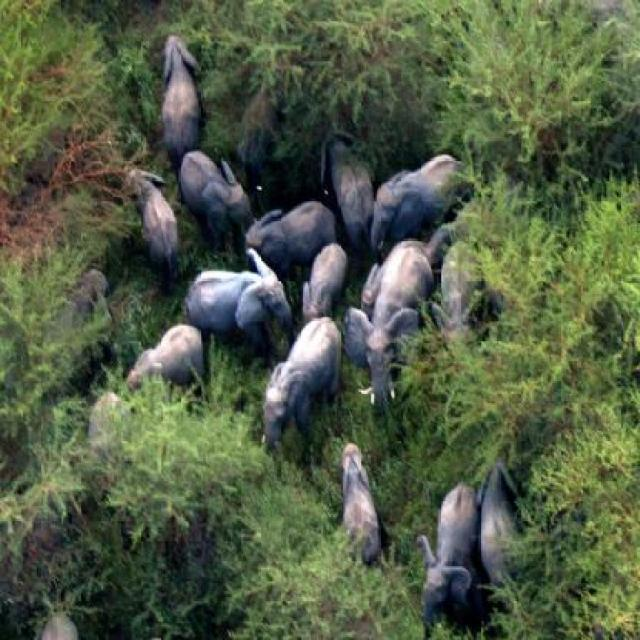elephant: (254, 304, 337, 448), (410, 464, 482, 625), (367, 127, 478, 231), (470, 452, 535, 628), (370, 240, 433, 418), (115, 153, 194, 281), (321, 445, 397, 564), (440, 234, 497, 371), (188, 259, 288, 335), (121, 329, 210, 408), (173, 160, 272, 228), (318, 120, 378, 232), (158, 14, 212, 137), (242, 206, 336, 269), (300, 240, 357, 317)
